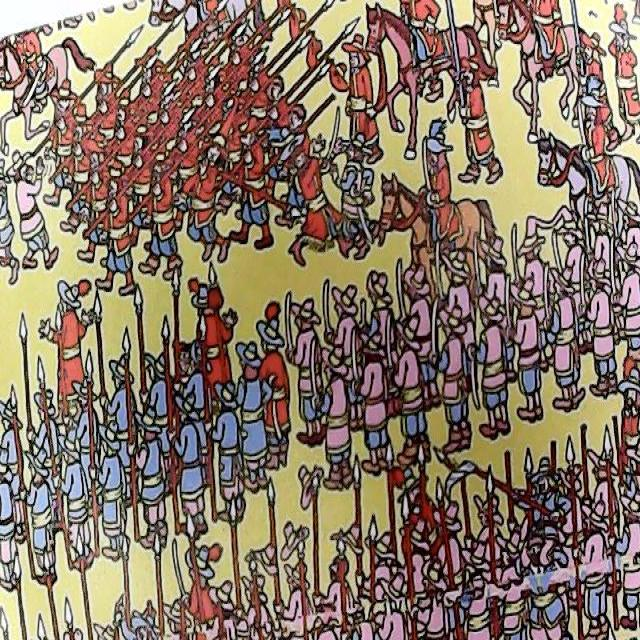waldo: (175, 339, 192, 373)
